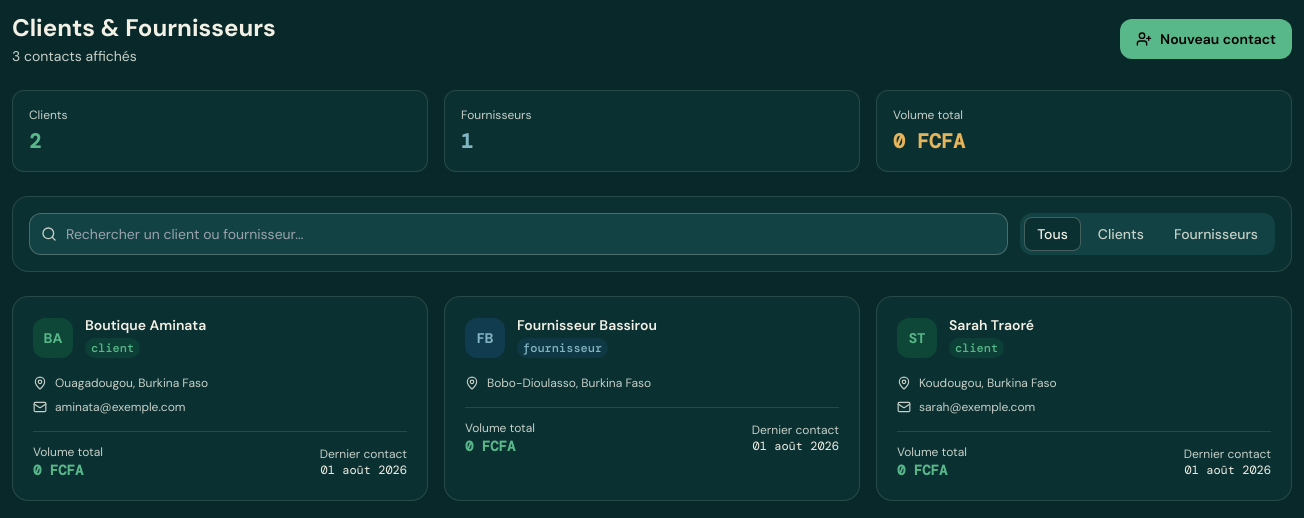
ClientsPage — recherche › filtre par ville
Expected: the text "Boutique Aminata" is shown, [85, 317, 206, 334]
Type "Bobo" into the field with placeholder "Rechercher un client ou fournisseur..." at (519, 234), box [29, 213, 1008, 255]
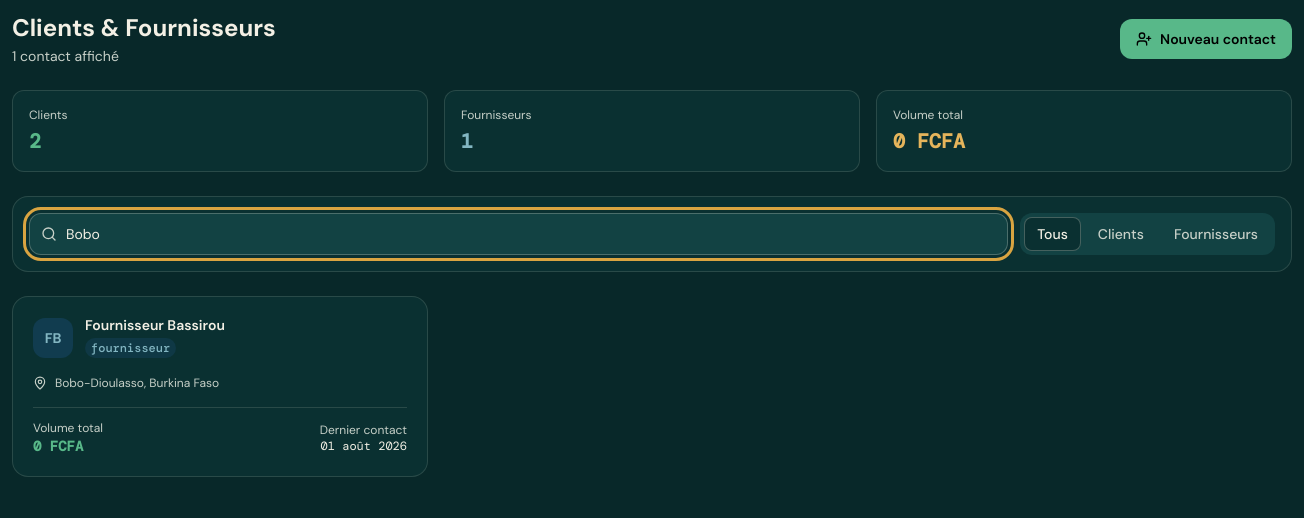
Expected: the text "Fournisseur Bassirou" is shown, [85, 317, 225, 334]
Expected: the text "Boutique Aminata" is gone
